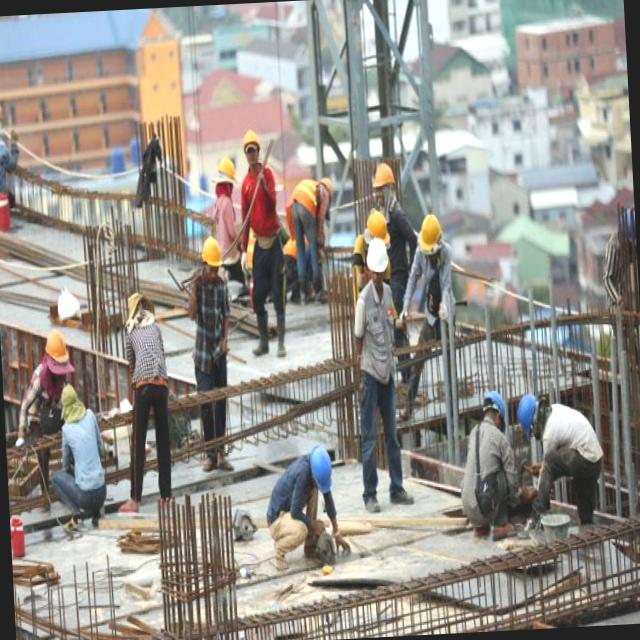helmet: (41, 325, 78, 378), (361, 233, 394, 286), (306, 443, 338, 497), (416, 214, 448, 264), (512, 382, 538, 431), (198, 228, 225, 274), (234, 130, 266, 164), (369, 157, 398, 190), (481, 391, 509, 424), (215, 151, 237, 190), (318, 172, 338, 205)
no-helmet: (56, 385, 85, 418), (118, 286, 144, 319)
no-vest: (184, 266, 242, 382), (353, 278, 399, 401), (456, 426, 509, 518), (54, 409, 110, 496), (544, 406, 600, 483), (126, 318, 173, 408), (242, 168, 284, 261), (262, 447, 314, 518), (416, 254, 454, 312)
vest: (296, 172, 332, 220)
